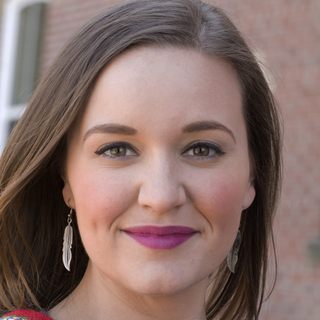eye: (176, 138, 227, 163), (93, 139, 143, 163)
